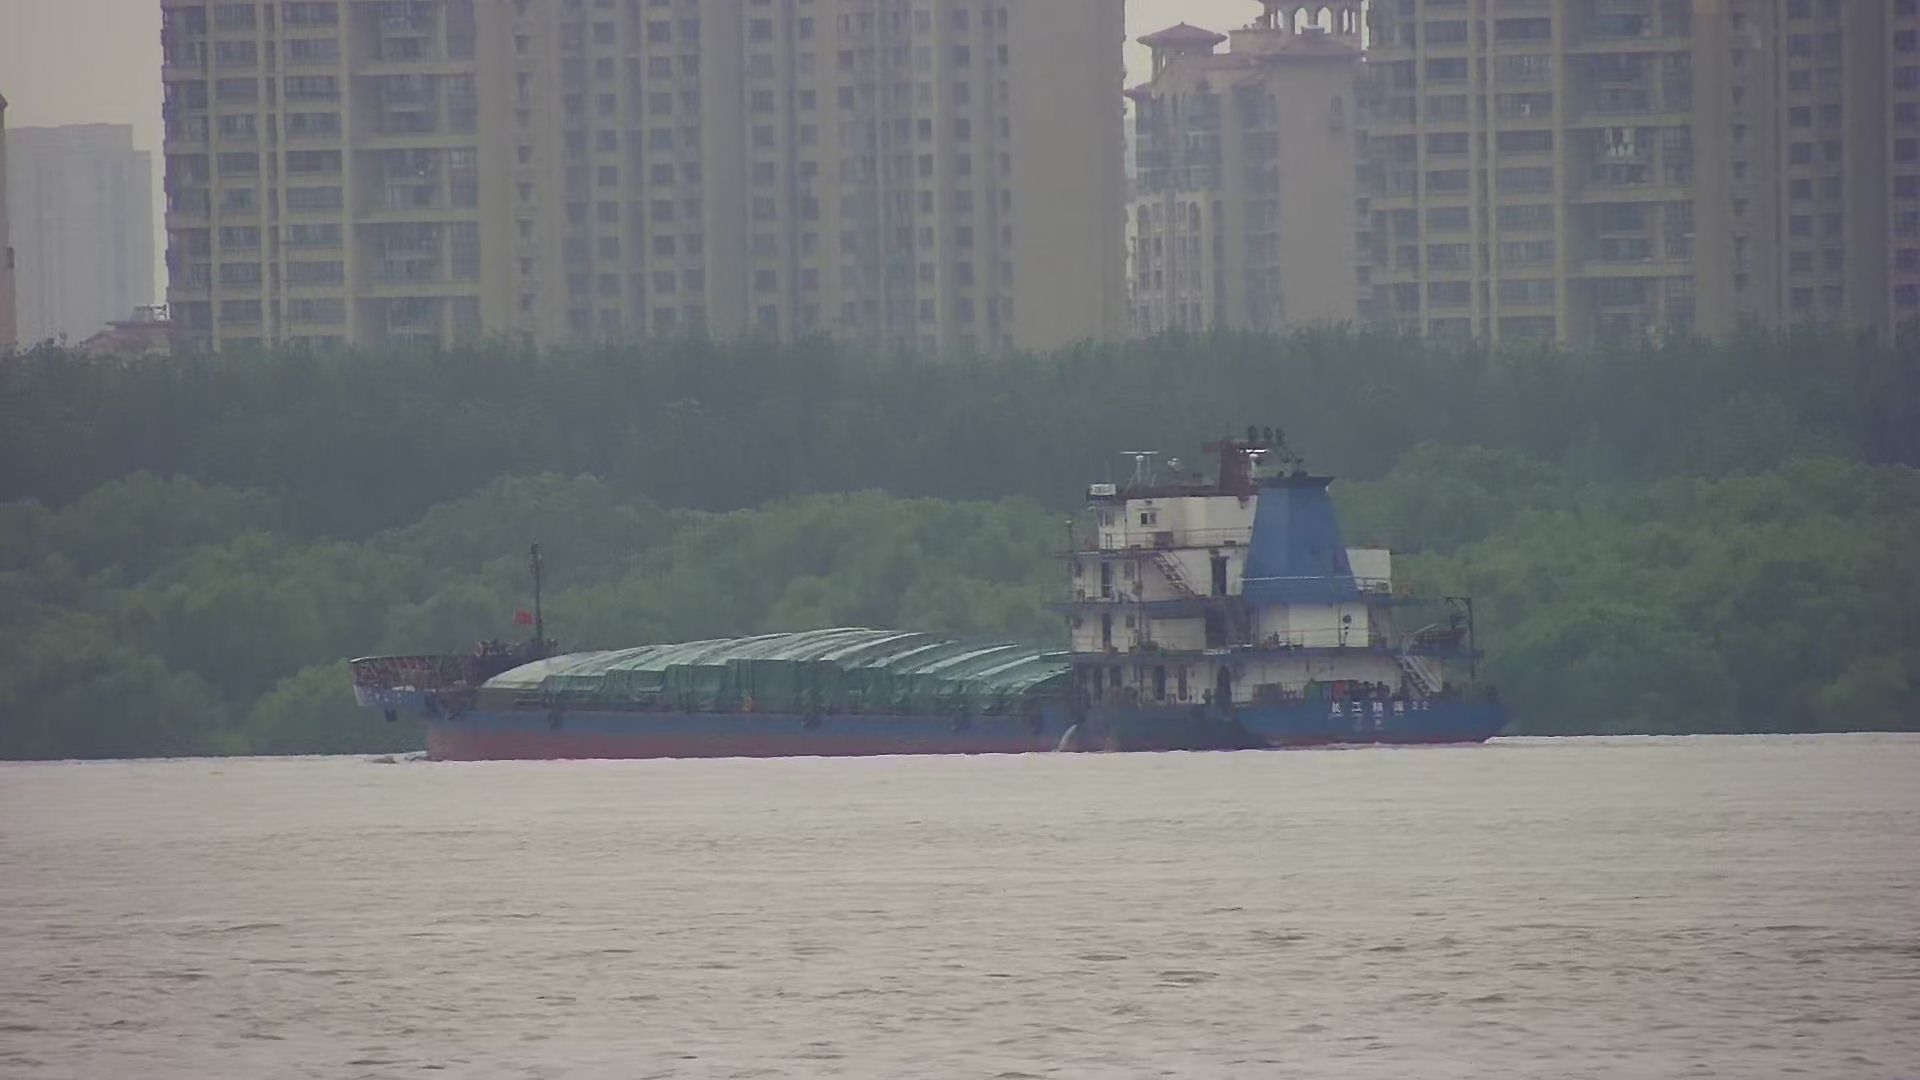ship: (347, 431, 1511, 761)
